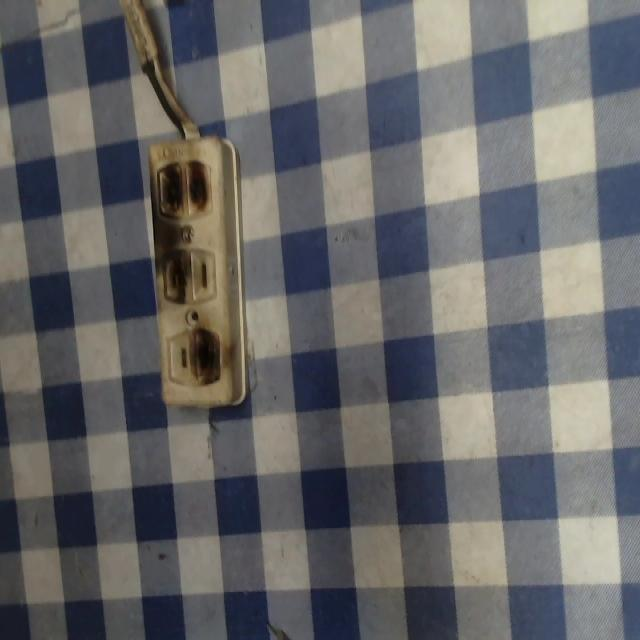-: (149, 157, 214, 219), (189, 324, 222, 388), (156, 247, 193, 304)
